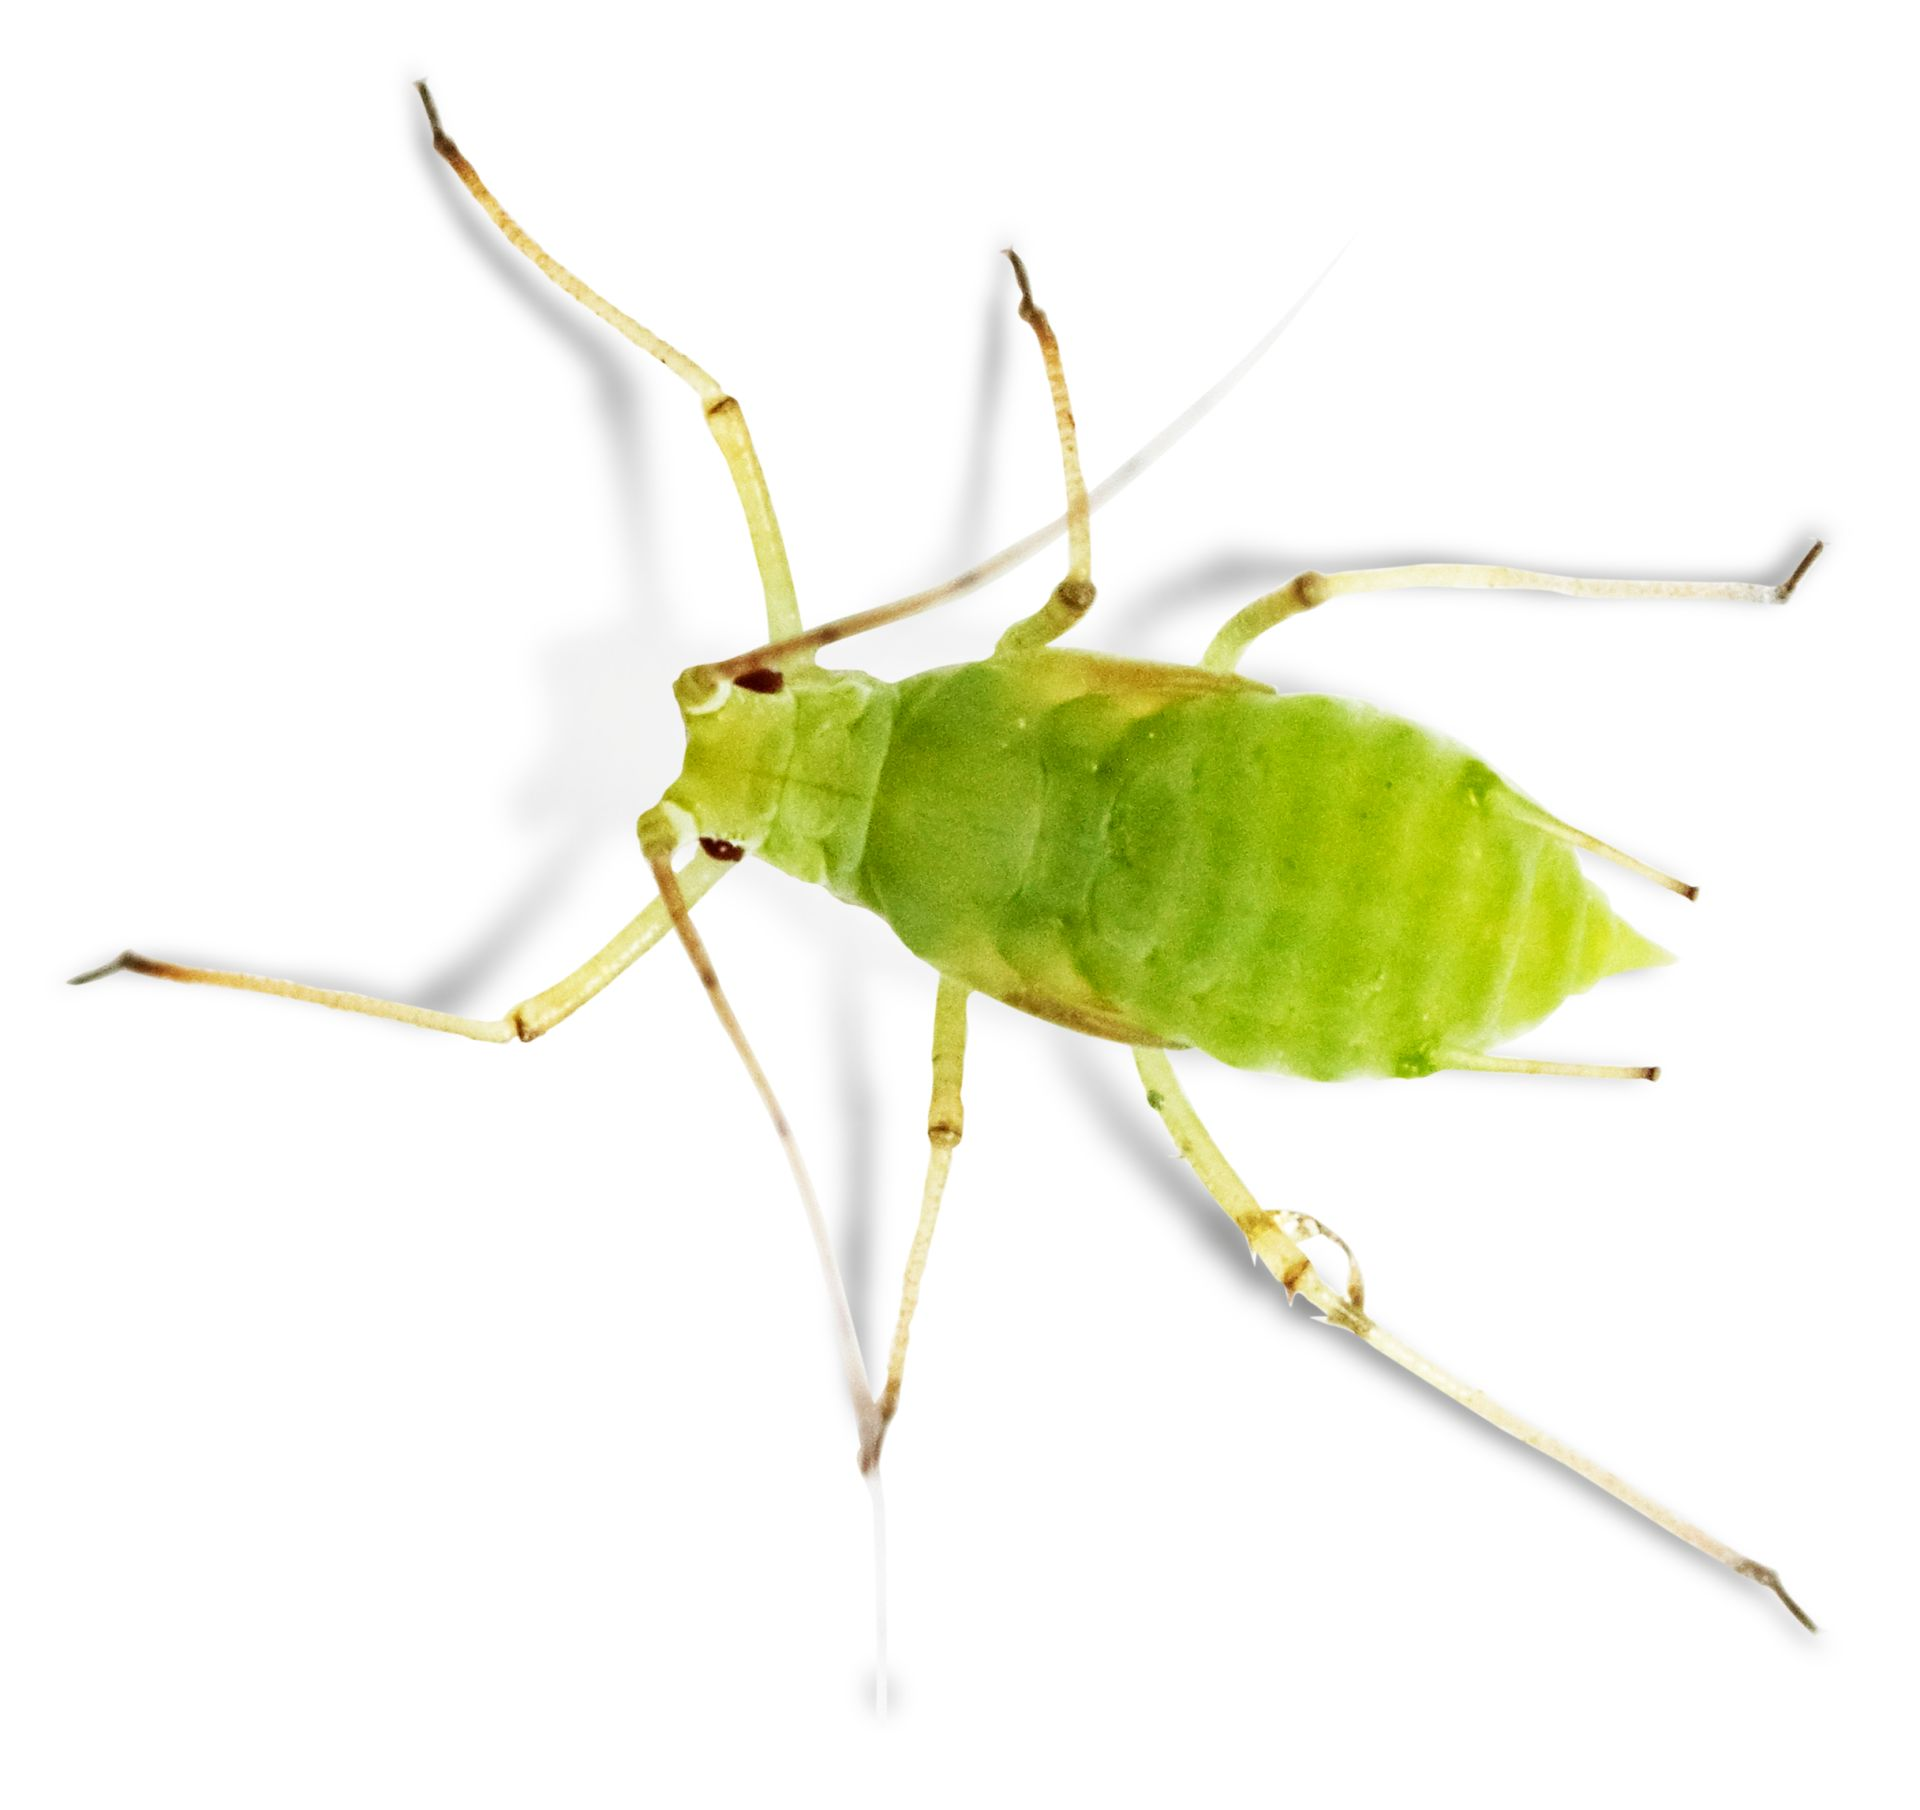Aphids: (59, 38, 1856, 1688)
